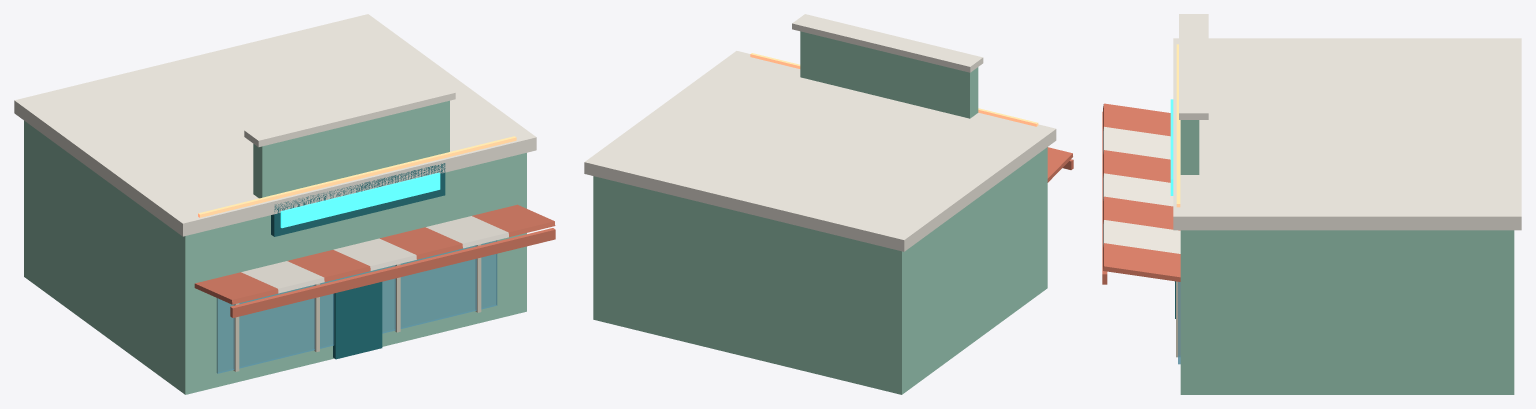
File: lod_deco_shop.glb
3 renders of one model, left to right at view 1: azimuth 30°, elevation 25°; view 2: azimuth 150°, elevation 25°; view 3: azimuth 270°, elevation 25°, orthographic. The views are drawn at different scales.
Visible parts, largest first — view 1: lod_deco_shop; view 2: lod_deco_shop; view 3: lod_deco_shop.
Part boxes in pixels (x1,y1,x2,y2): lod_deco_shop: (14,14,555,394); lod_deco_shop: (584,14,1073,394); lod_deco_shop: (1102,14,1521,394).
Size of the model in its own units: 11.4 by 7.3 by 11.32.
